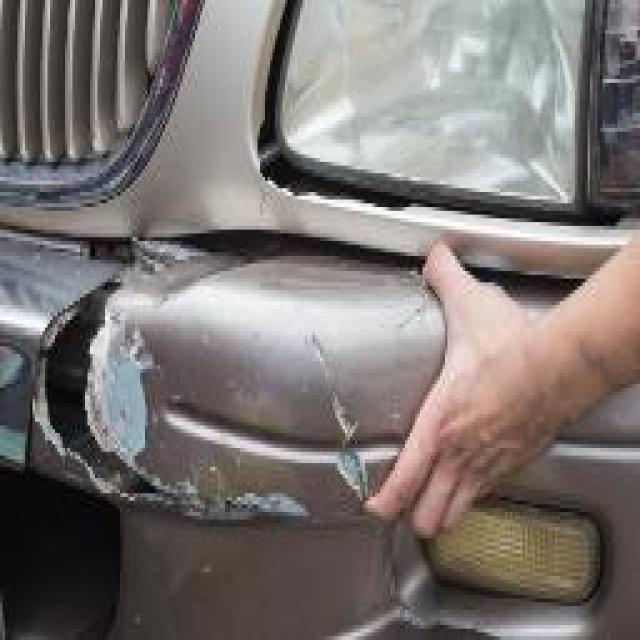Bumper: (35, 230, 420, 640)
